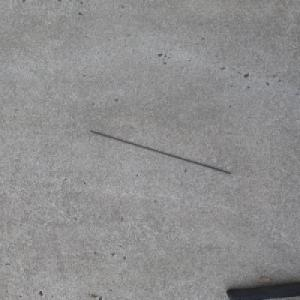LuggagePart: (87, 129, 231, 174)
